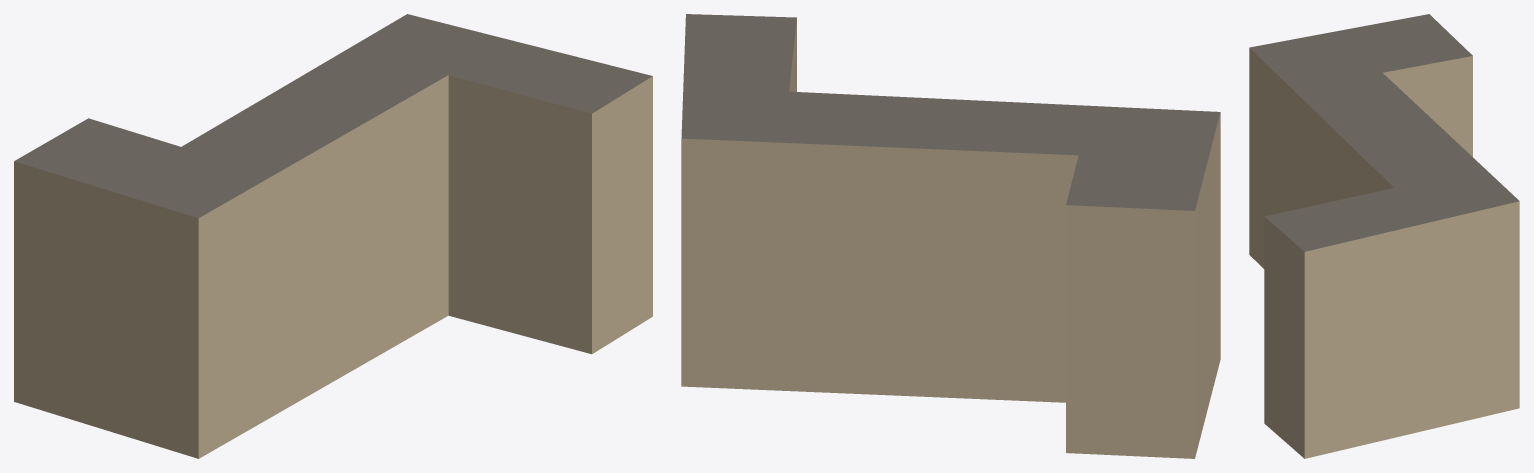
3 renders of one model, left to right at view 1: azimuth 30°, elevation 25°; view 2: azimuth 150°, elevation 25°; view 3: azimuth 270°, elevation 25°, orthographic. The views are drawn at different scales.
Visible parts, largest first — view 1: HP-w1153638942; view 2: HP-w1153638942; view 3: HP-w1153638942.
Part boxes in pixels (x1,y1,x2,y2): HP-w1153638942: [14, 14, 652, 458]; HP-w1153638942: [681, 14, 1220, 458]; HP-w1153638942: [1249, 14, 1519, 458].
Size of the model in its own units: 48.77 by 19.8 by 23.45.
